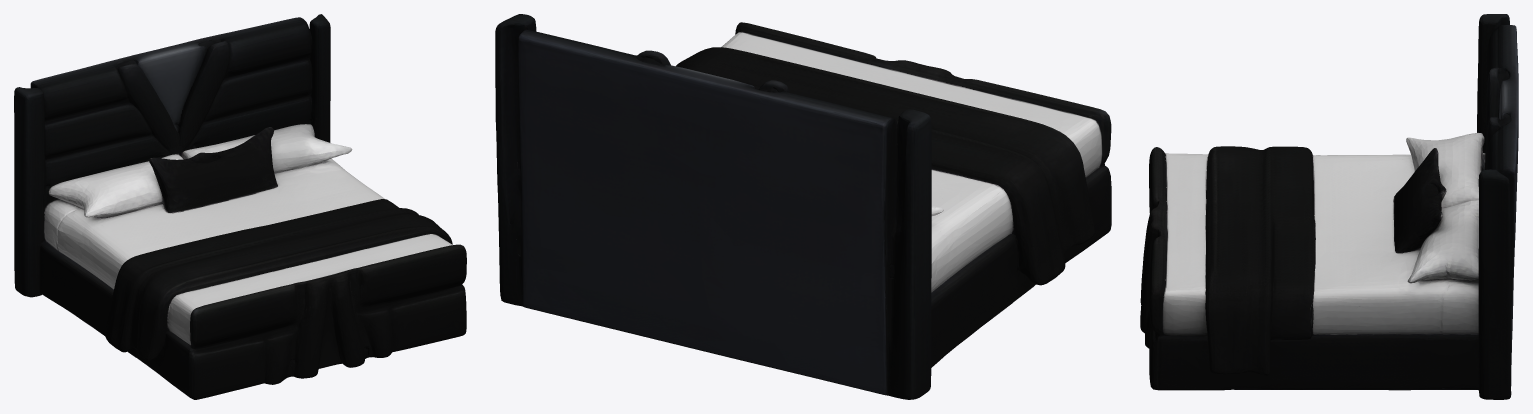
File: 20936_headboard_legends_sandiego_sle.glb
3 views of the same model, side by side, from view 1: azimuth 30°, elevation 25°; view 2: azimuth 150°, elevation 25°; view 3: azimuth 270°, elevation 25° (orthographic). The views are drawn at different scales.
Parts seen in each view (by area): view 1: world; view 2: world; view 3: world.
Boxes of the visible parts, bbox=[...] form: world: bbox=[14, 14, 466, 399]; world: bbox=[495, 14, 1111, 399]; world: bbox=[1140, 14, 1518, 399].
Bounding box in the file's own units: 0.9972 × 0.6174 × 0.9474.
Materials: 1 (1 with a texture image).
